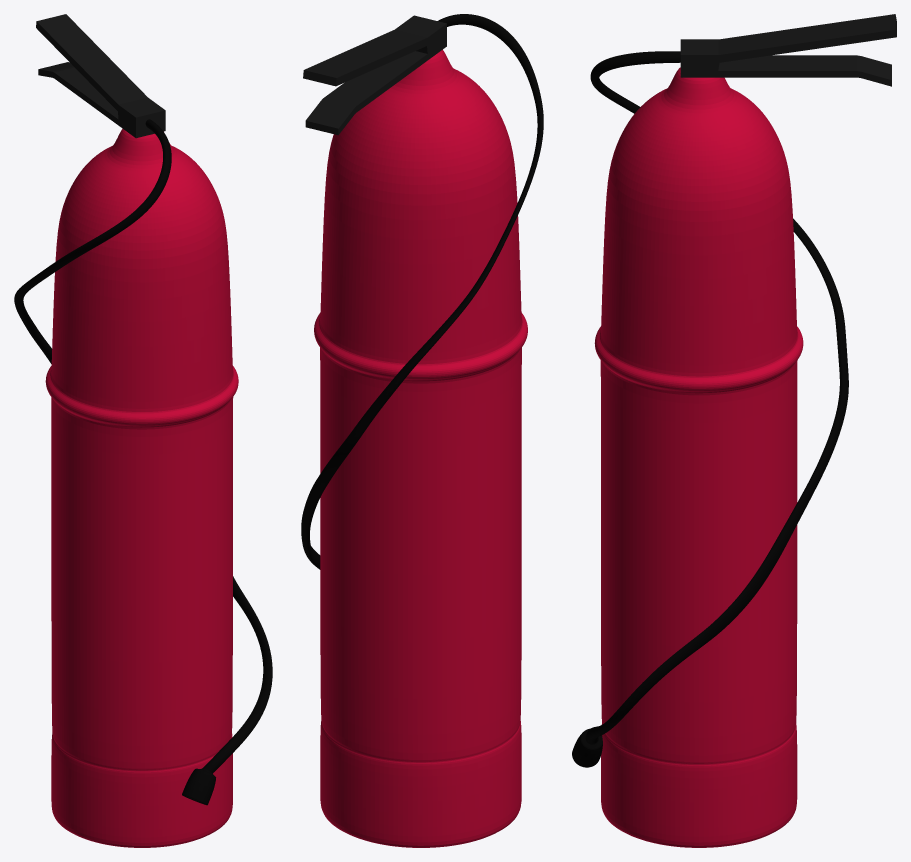
The model's file is Feuerlöscher.fbx.
3 renders of one model, left to right at view 1: azimuth 30°, elevation 25°; view 2: azimuth 150°, elevation 25°; view 3: azimuth 270°, elevation 25°, orthographic. The views are drawn at different scales.
Parts seen in each view (by area): view 1: Cylinder.001; view 2: Cylinder.001; view 3: Cylinder.001.
Part boxes in pixels (left/top/right/bottom): Cylinder.001: left=14, top=14, right=272, bottom=847; Cylinder.001: left=301, top=14, right=543, bottom=847; Cylinder.001: left=572, top=14, right=896, bottom=847.
Bounding box in the file's own units: 19.48 × 70.27 × 26.3.
